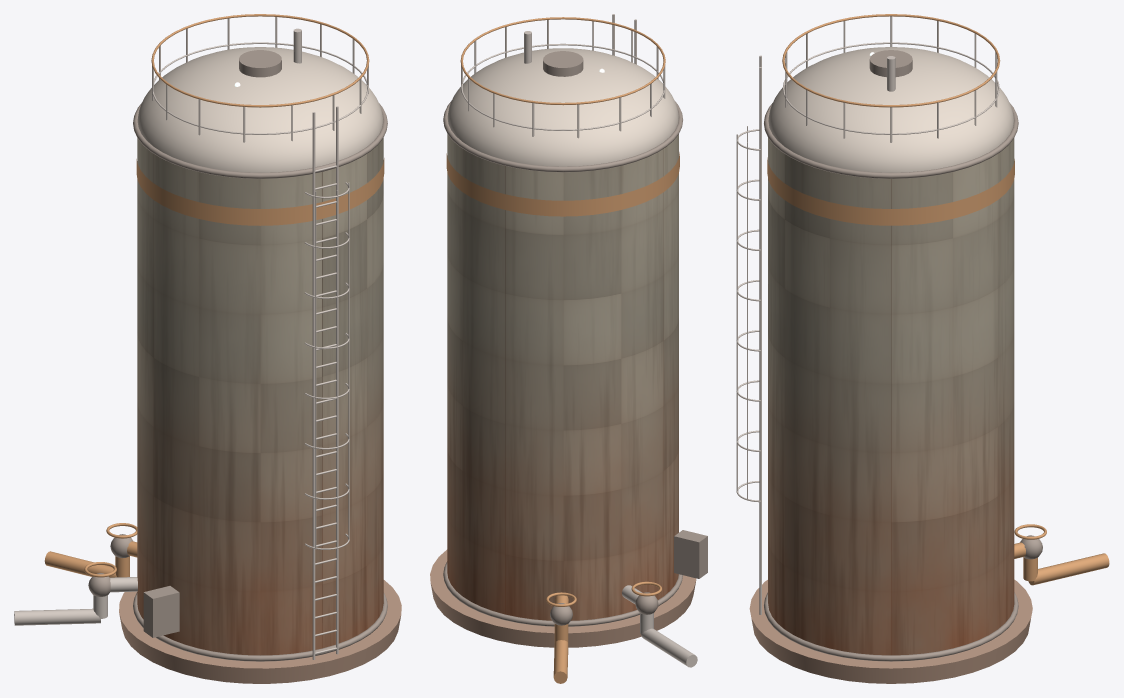
Rendered from E10_standing_tank_10m.glb.
The picture shows the model from 3 angles, left to right: view 1: azimuth 30°, elevation 25°; view 2: azimuth 150°, elevation 25°; view 3: azimuth 270°, elevation 25°; orthographic projection. The views are drawn at different scales.
Visible parts, largest first — view 1: tank_shell, tank_roof, foundation_ring, colour_band, stiffener_ring (×2), ladder_rail (×2), outlet_pipe (×2), cage_bar (×3), gauge_cabinet, top_railing, top_railing_mid, roof_manhole; view 2: tank_shell, tank_roof, foundation_ring, colour_band, stiffener_ring (×2), gauge_cabinet, outlet_pipe (×2), top_railing, top_railing_mid, roof_manhole; view 3: tank_shell, tank_roof, foundation_ring, colour_band, stiffener_ring (×2), ladder_rail, top_railing, outlet_pipe, top_railing_mid, roof_manhole, cage_bar.
Part boxes in pixels (<box>): tank_shell: <box>137,138,383,655</box>; tank_roof: <box>137,47,383,172</box>; foundation_ring: <box>119,580,401,683</box>; colour_band: <box>136,158,384,225</box>; stiffener_ring (×2): <box>133,103,387,661</box>; ladder_rail (×2): <box>312,106,338,659</box>; outlet_pipe (×2): <box>14,551,116,625</box>; cage_bar (×3): <box>315,182,349,547</box>; gauge_cabinet: <box>143,586,179,637</box>; top_railing: <box>151,14,369,107</box>; top_railing_mid: <box>151,42,368,134</box>; roof_manhole: <box>239,50,281,77</box>; tank_shell: <box>447,134,678,620</box>; tank_roof: <box>447,48,678,166</box>; foundation_ring: <box>430,549,696,647</box>; colour_band: <box>446,152,679,216</box>; stiffener_ring (×2): <box>443,100,682,626</box>; gauge_cabinet: <box>674,530,707,578</box>; outlet_pipe (×2): <box>553,628,697,683</box>; top_railing: <box>460,17,665,105</box>; top_railing_mid: <box>461,43,664,130</box>; roof_manhole: <box>543,51,583,76</box>; tank_shell: <box>768,138,1014,655</box>; tank_roof: <box>768,47,1013,172</box>; foundation_ring: <box>749,579,1032,683</box>; colour_band: <box>767,157,1014,225</box>; stiffener_ring (×2): <box>764,102,1018,661</box>; ladder_rail: <box>759,67,761,614</box>; top_railing: <box>782,14,1000,107</box>; outlet_pipe: <box>1028,553,1109,585</box>; top_railing_mid: <box>782,42,999,134</box>; roof_manhole: <box>869,50,912,77</box>; cage_bar: <box>736,134,737,490</box>.
Bounding box in the file's own units: 5.94 × 10.5 × 6.06.
Materials: 7 (1 with a texture image).
